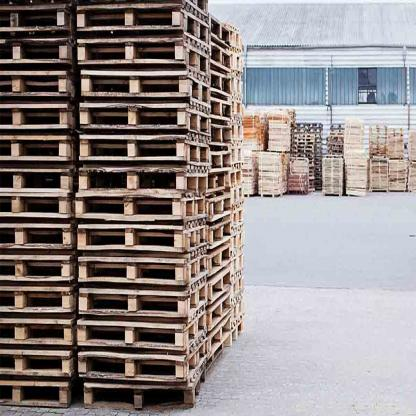BoxFace: (77, 307, 208, 351), (74, 7, 212, 48), (73, 40, 209, 79), (78, 101, 212, 134), (79, 167, 207, 198), (209, 264, 232, 303), (209, 68, 233, 96)
